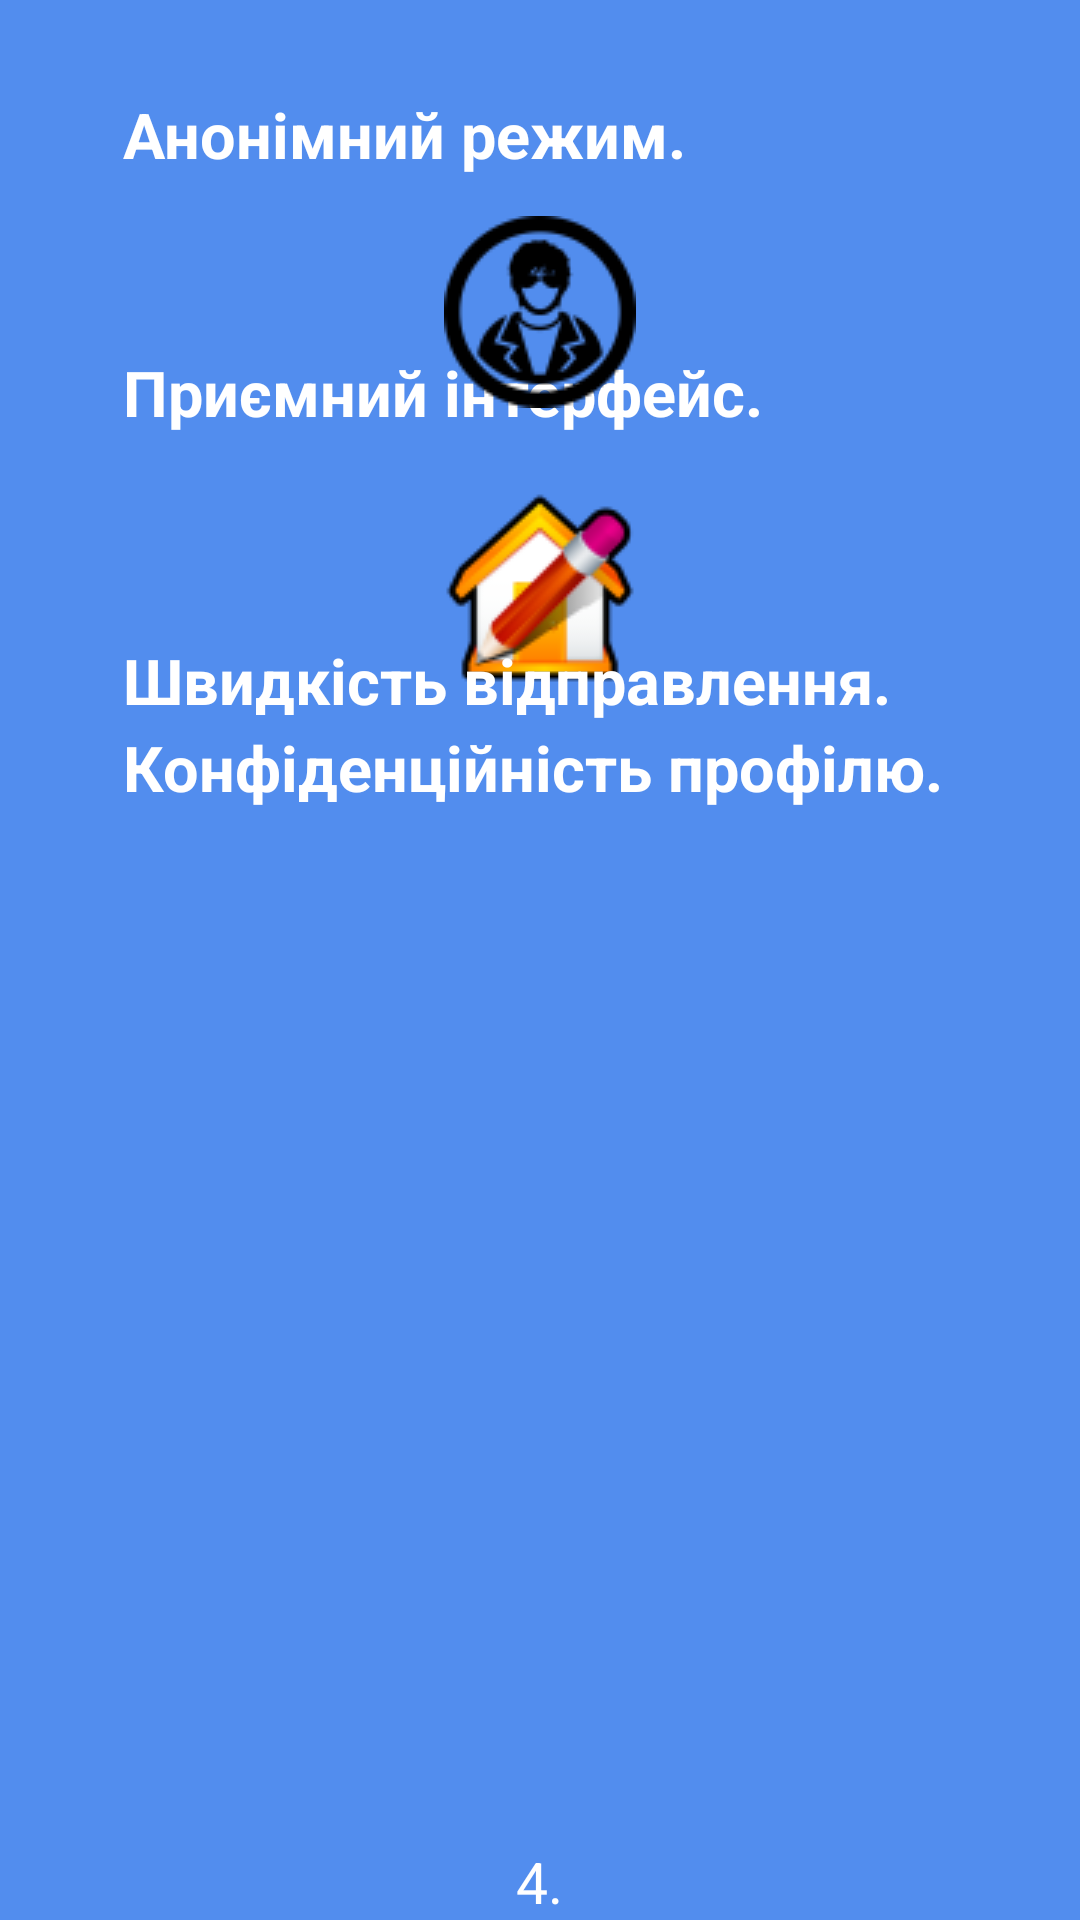

Icon click points for this 1080 × 1920 phone screenshot, format (x=x, y=y):
anon: (x=540, y=312)
